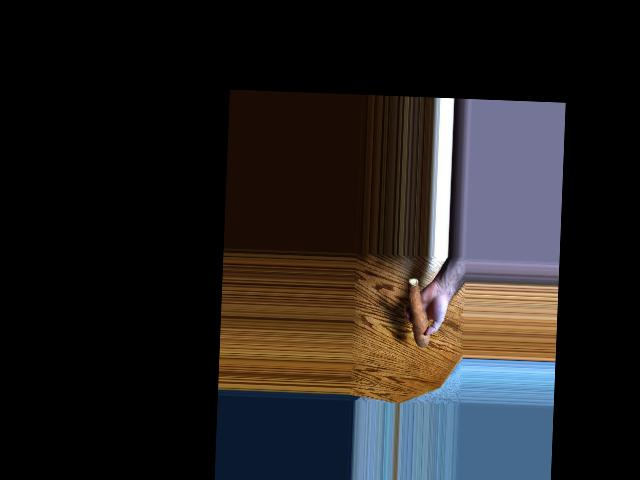sweet_potato: (406, 275, 427, 351)
